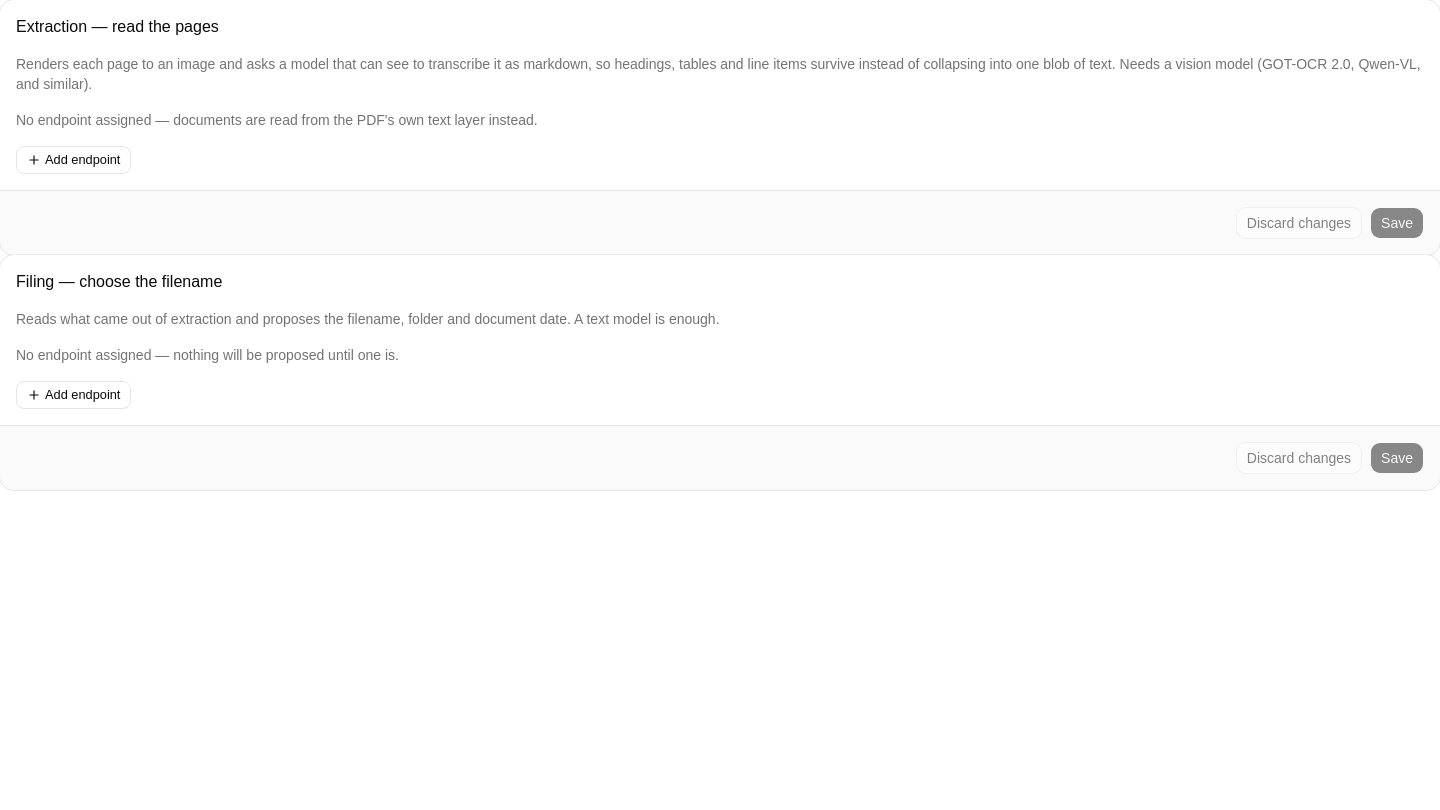
it: AiTasksSection › refuses to save a step with no model chosen
Expected: the text "Filing — choose the filename" is shown, [16, 273, 222, 290]
Click the button "Add endpoint" below "Filing — choose the filename". click: (74, 395)
box: [16, 381, 131, 409]
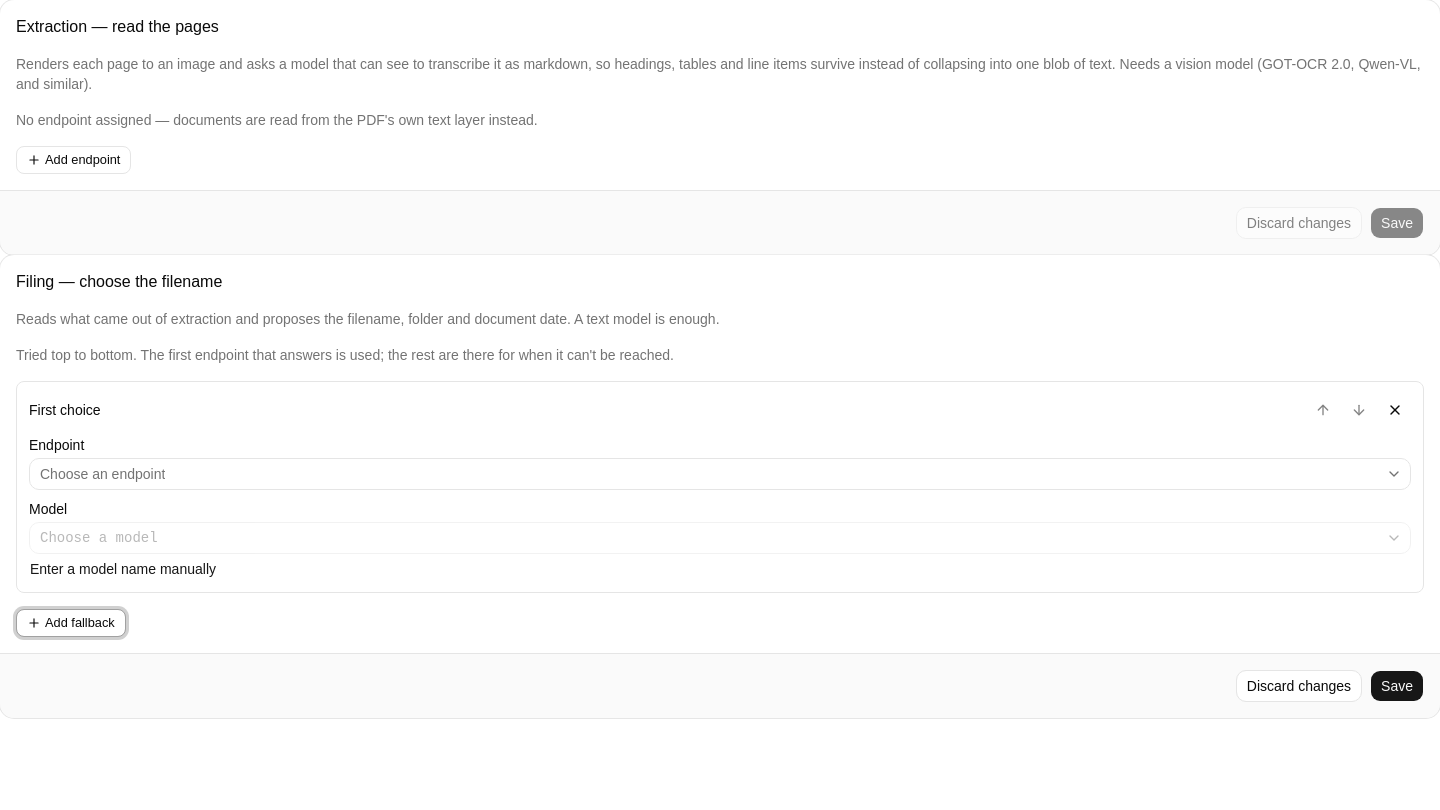
Click the dropdown labelled "endpoint". click: (103, 474)
box: [29, 458, 1411, 490]
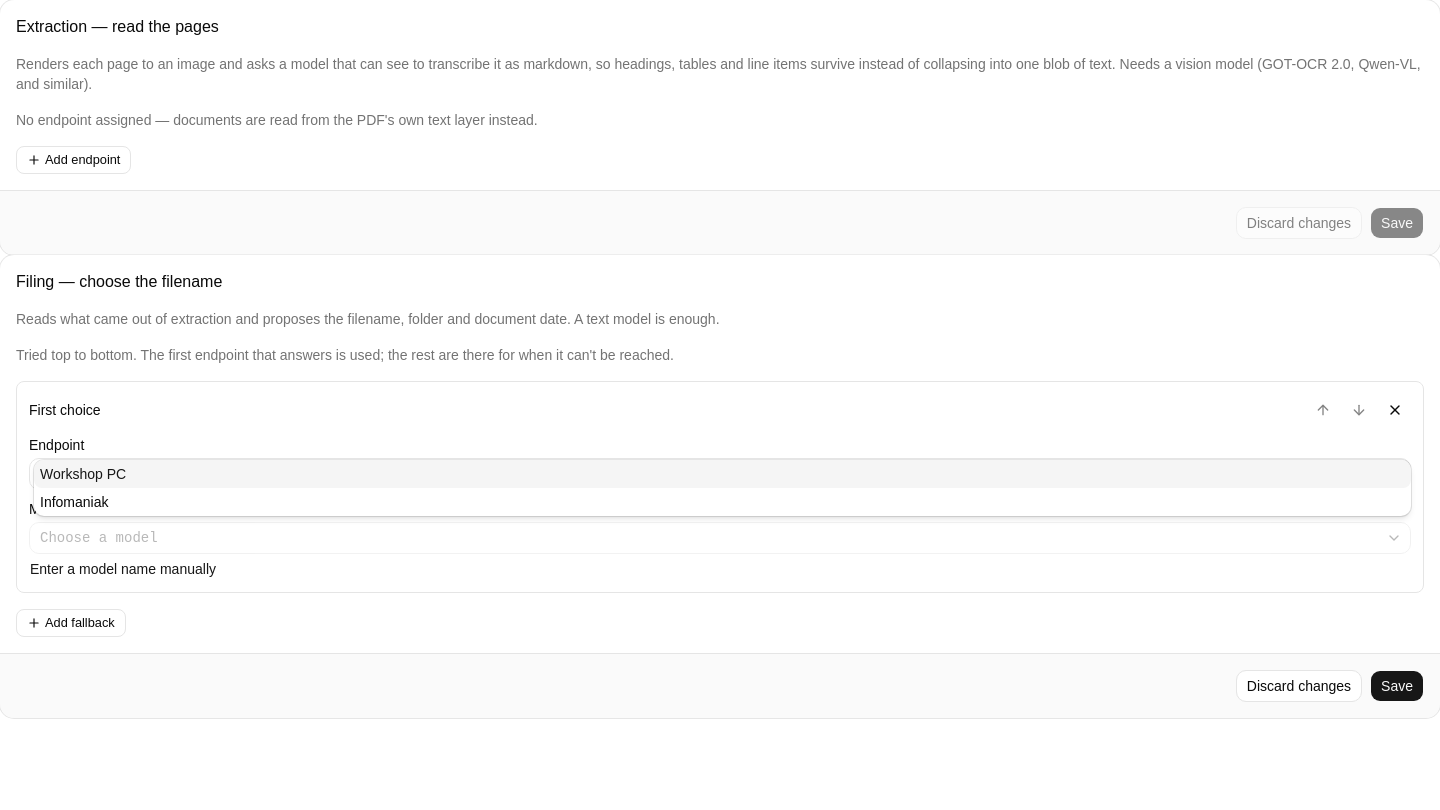
Click the option "Workshop PC". click: (83, 474)
box: [34, 460, 1411, 488]
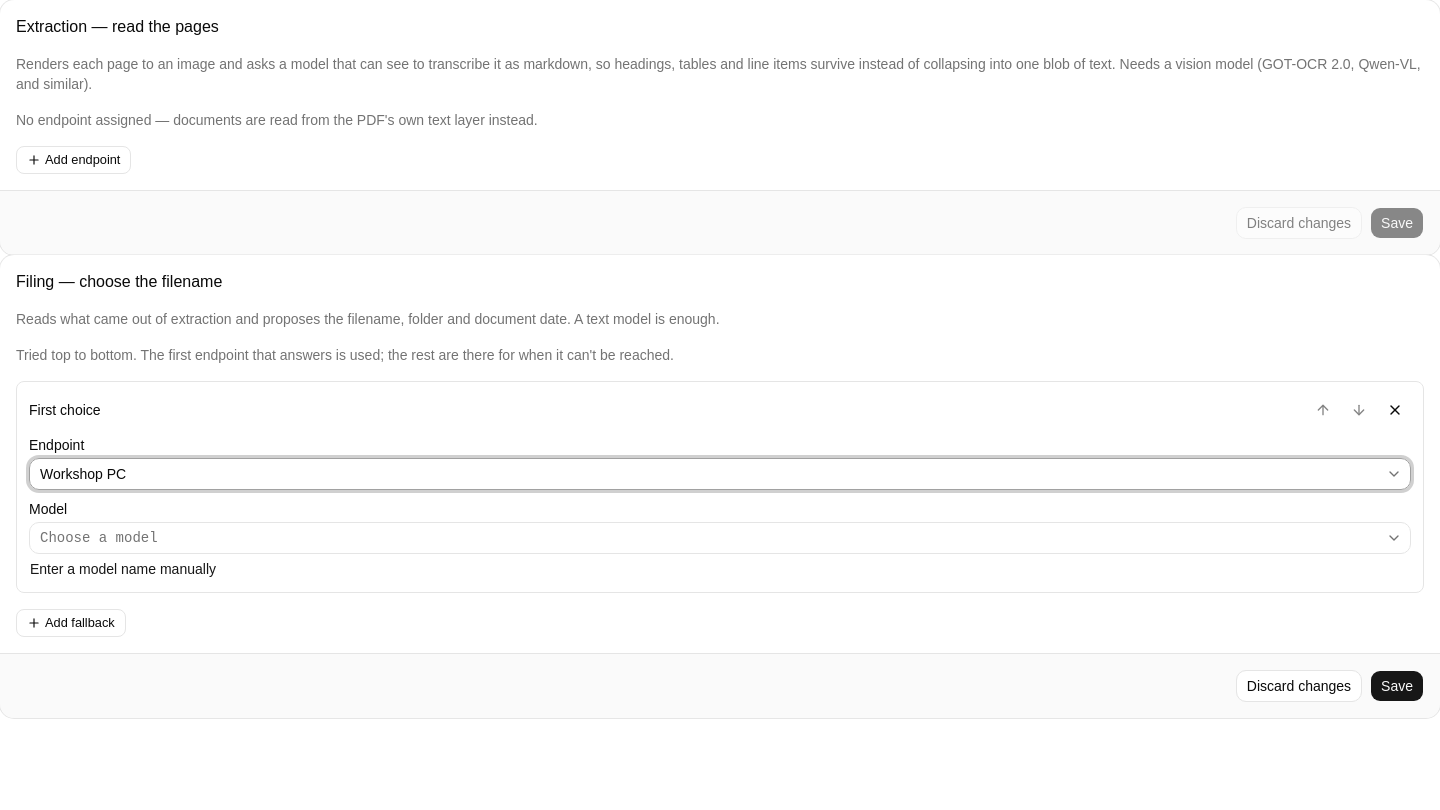
Click the 2nd button "Save". click: (1397, 686)
box: [1370, 670, 1424, 702]
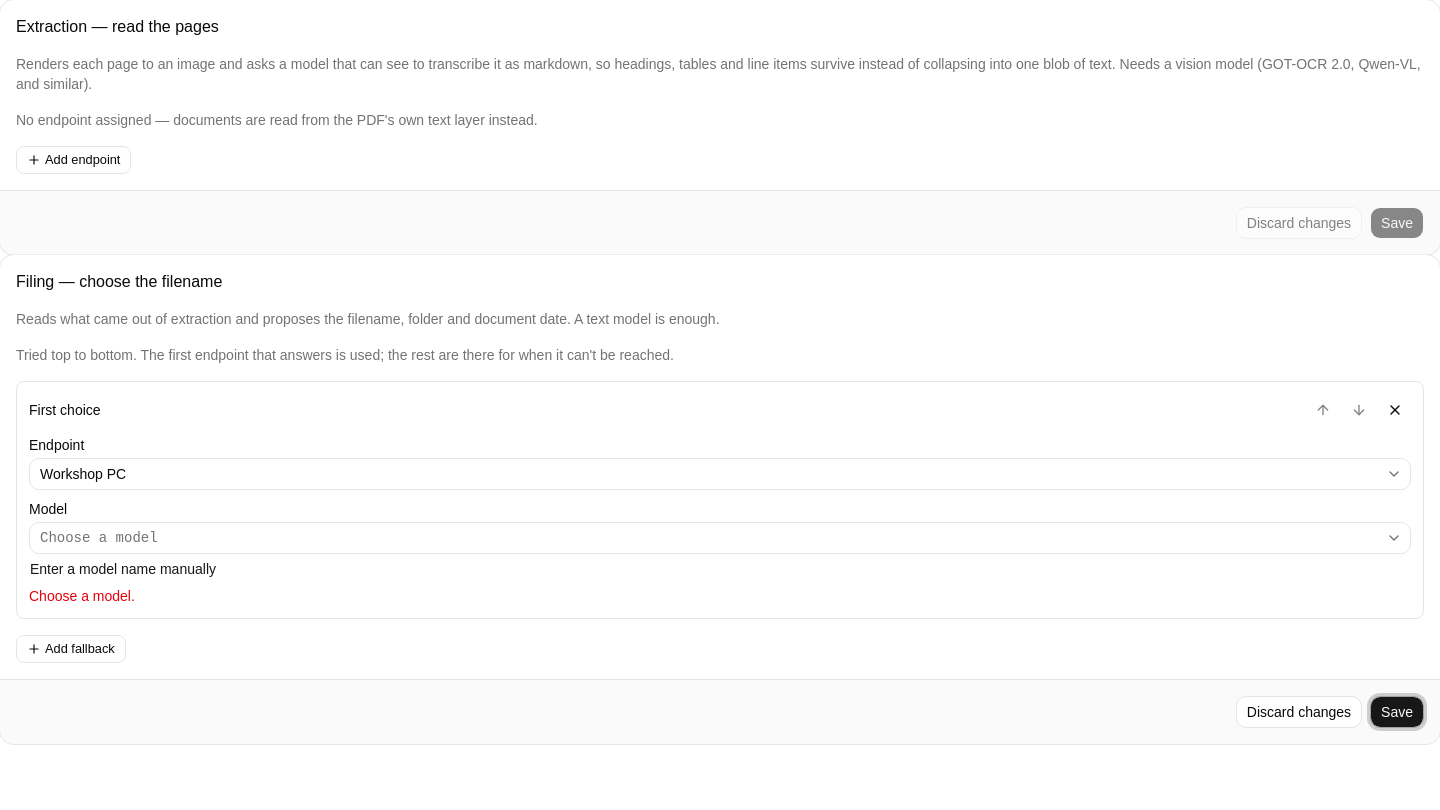
Now the text "Choose a model." is shown, box [29, 588, 135, 604]
